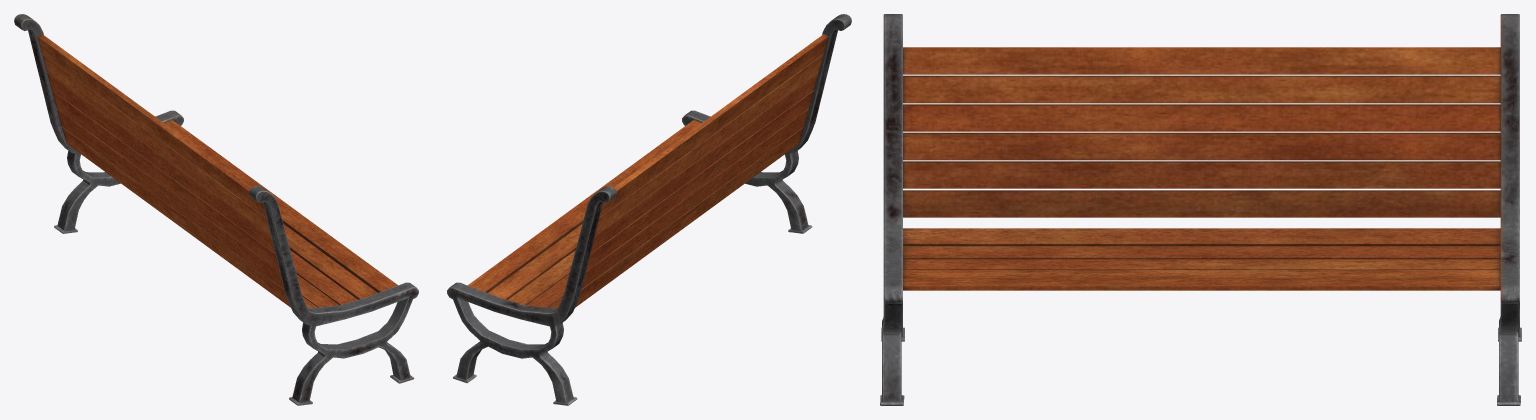
Rendered from prop_bench.glb.
3 renders of one model, left to right at view 1: azimuth 30°, elevation 25°; view 2: azimuth 150°, elevation 25°; view 3: azimuth 270°, elevation 25°, orthographic. The views are drawn at different scales.
Visible parts, largest first — view 1: prop_bench; view 2: prop_bench; view 3: prop_bench.
Boxes of the visible parts, x1,y1,x2,y2 form: prop_bench: [14, 14, 418, 405]; prop_bench: [447, 14, 851, 405]; prop_bench: [880, 14, 1521, 405].
Bounding box in the file's own units: 0.7042 × 0.9292 × 1.83.
1 material, 1 textured.
